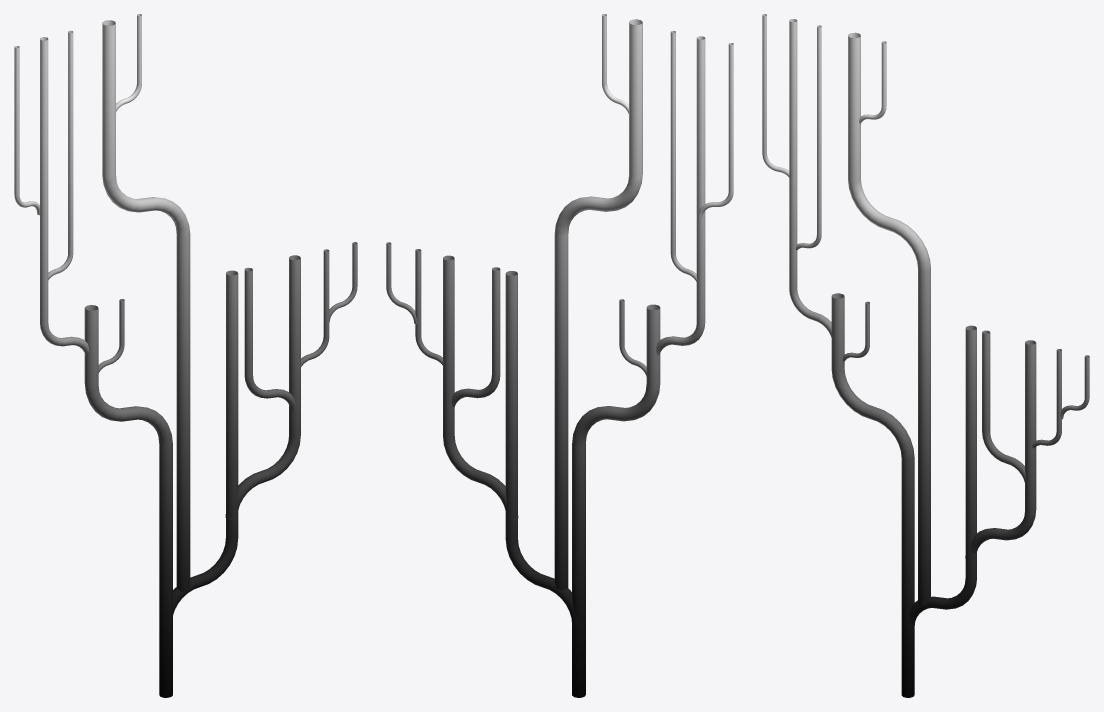
The model's file is BG_Tree_V4.fbx.
3 views of the same model, side by side, from view 1: azimuth 30°, elevation 25°; view 2: azimuth 150°, elevation 25°; view 3: azimuth 330°, elevation 25° (orthographic). The views are drawn at different scales.
Visible parts, largest first — view 1: BG_Tree_V4; view 2: BG_Tree_V4; view 3: BG_Tree_V4.
Boxes of the visible parts, x1,y1,x2,y2 form: BG_Tree_V4: (14, 14, 357, 697); BG_Tree_V4: (386, 14, 733, 697); BG_Tree_V4: (762, 14, 1089, 697).
Size of the model in its own units: 740 by 1408 by 26.9.
